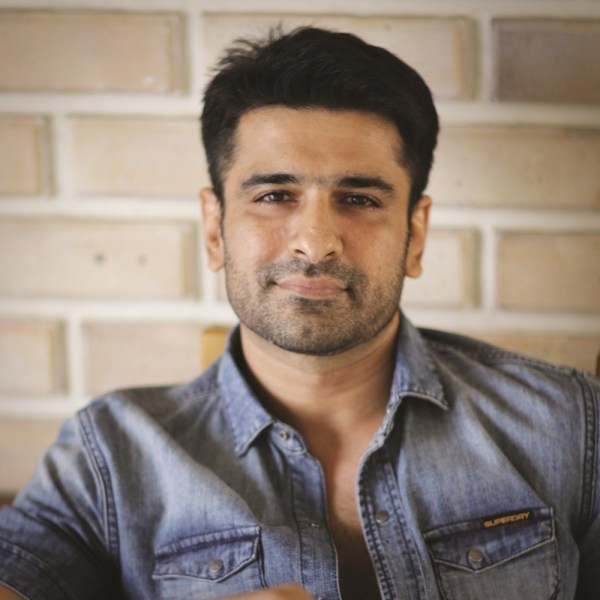mouth: (271, 273, 347, 300)
nose: (287, 236, 345, 264)
